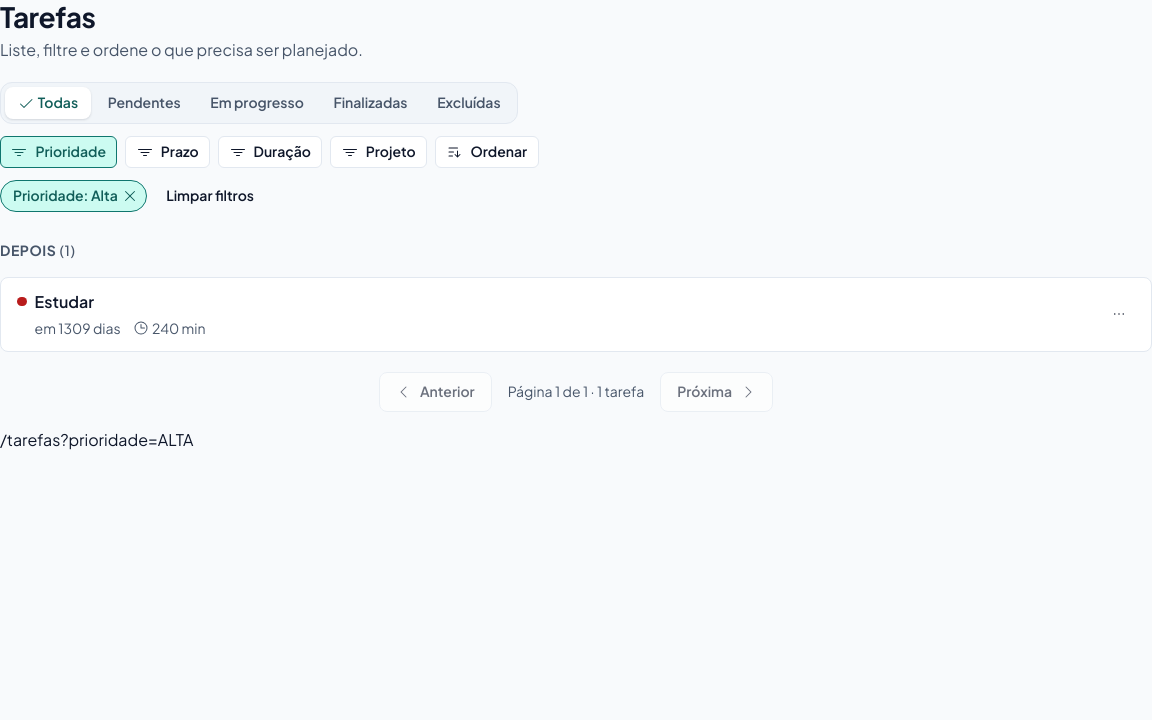
Test: TarefaDrawer › rotas › T3: abrir pelo card e fechar mantém a query string da lista
Click the link "Estudar" at (76, 307), box [16, 291, 136, 323]
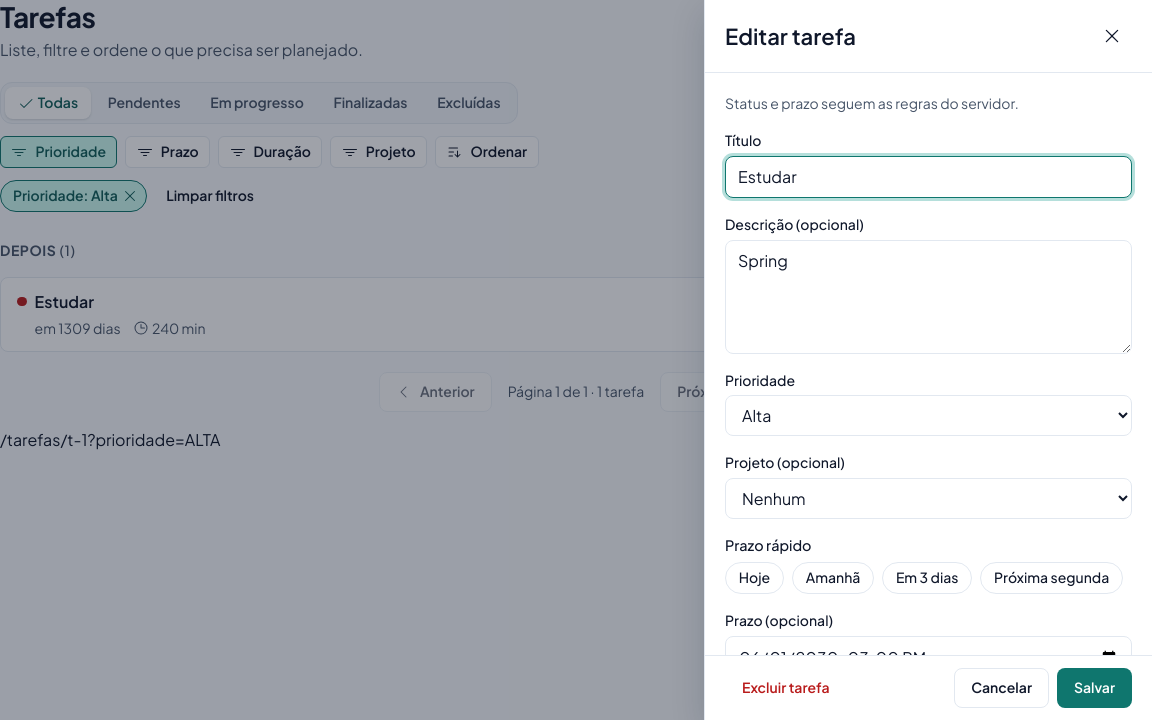
Expected: the text with test id "local" reads "/tarefas/t-1?prioridade=ALTA", [0, 429, 220, 450]
Expected: the field showing "Estudar" is shown, [725, 156, 1132, 198]
Click the button "Cancelar" at (1002, 688), box [954, 668, 1049, 708]
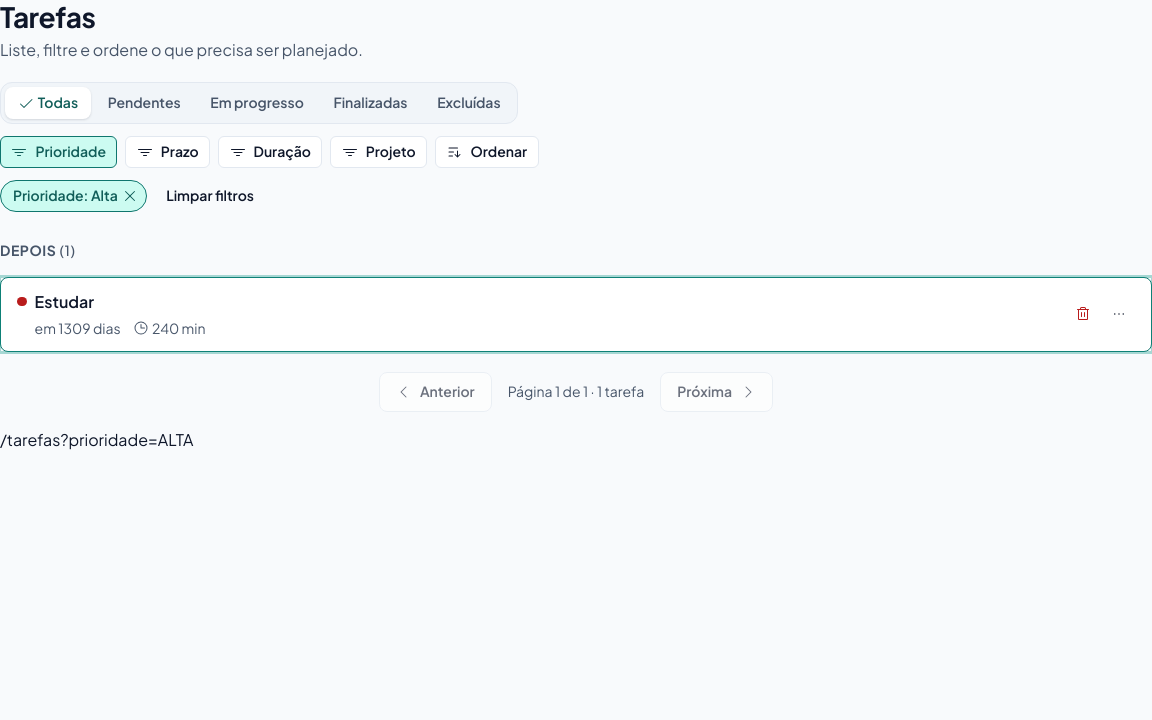
Expected: the heading "Editar tarefa" is gone
Expected: the text with test id "local" reads "/tarefas?prioridade=ALTA", [0, 429, 194, 450]
